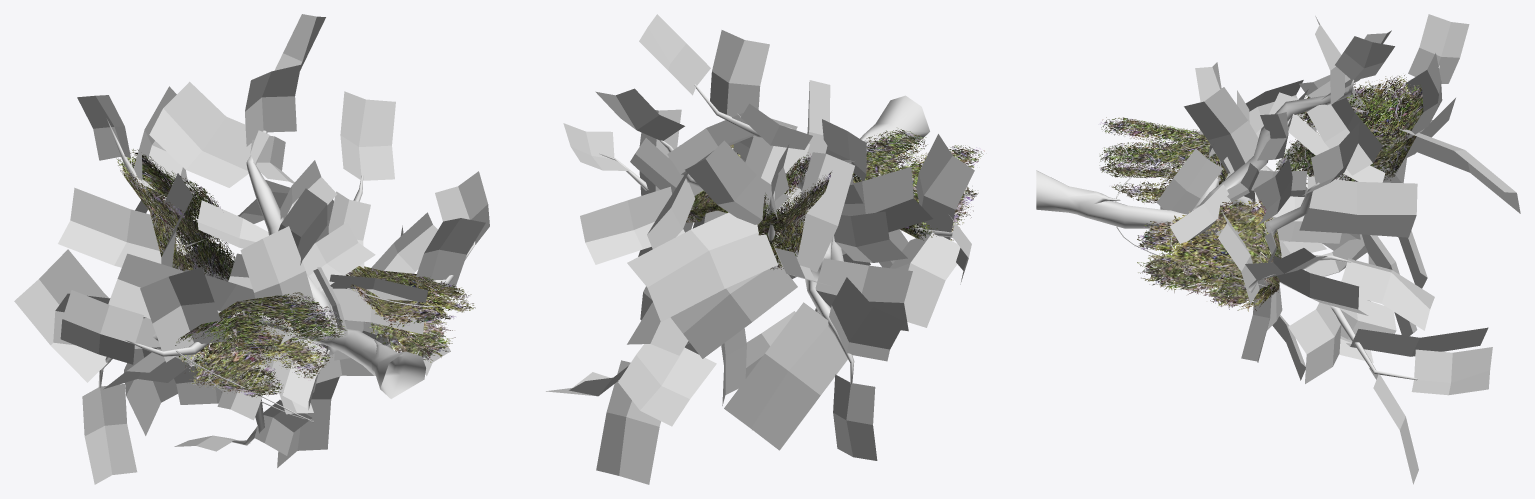
Rendered from Tree 1 v2 - LOD 1.fbx.
3 views of the same model, side by side, from view 1: azimuth 30°, elevation 25°; view 2: azimuth 150°, elevation 25°; view 3: azimuth 270°, elevation 25° (orthographic). The views are drawn at different scales.
Visible parts, largest first — view 1: Branches 1 v2 - LOD 1, Hanging Moss 1 v2 - LOD 1, Bark 1 v2 - LOD 1; view 2: Branches 1 v2 - LOD 1, Hanging Moss 1 v2 - LOD 1, Bark 1 v2 - LOD 1; view 3: Branches 1 v2 - LOD 1, Hanging Moss 1 v2 - LOD 1, Bark 1 v2 - LOD 1.
Part boxes in pixels (x1,y1,x2,y2): Branches 1 v2 - LOD 1: [14, 14, 489, 484]; Hanging Moss 1 v2 - LOD 1: [116, 149, 475, 397]; Bark 1 v2 - LOD 1: [98, 119, 475, 445]; Branches 1 v2 - LOD 1: [546, 14, 974, 484]; Hanging Moss 1 v2 - LOD 1: [686, 128, 984, 269]; Bark 1 v2 - LOD 1: [599, 84, 952, 384]; Branches 1 v2 - LOD 1: [1146, 14, 1520, 484]; Hanging Moss 1 v2 - LOD 1: [1099, 75, 1423, 311]; Bark 1 v2 - LOD 1: [1036, 65, 1439, 380].
Bounding box in the file's own units: 23.85 × 25.32 × 25.4.
